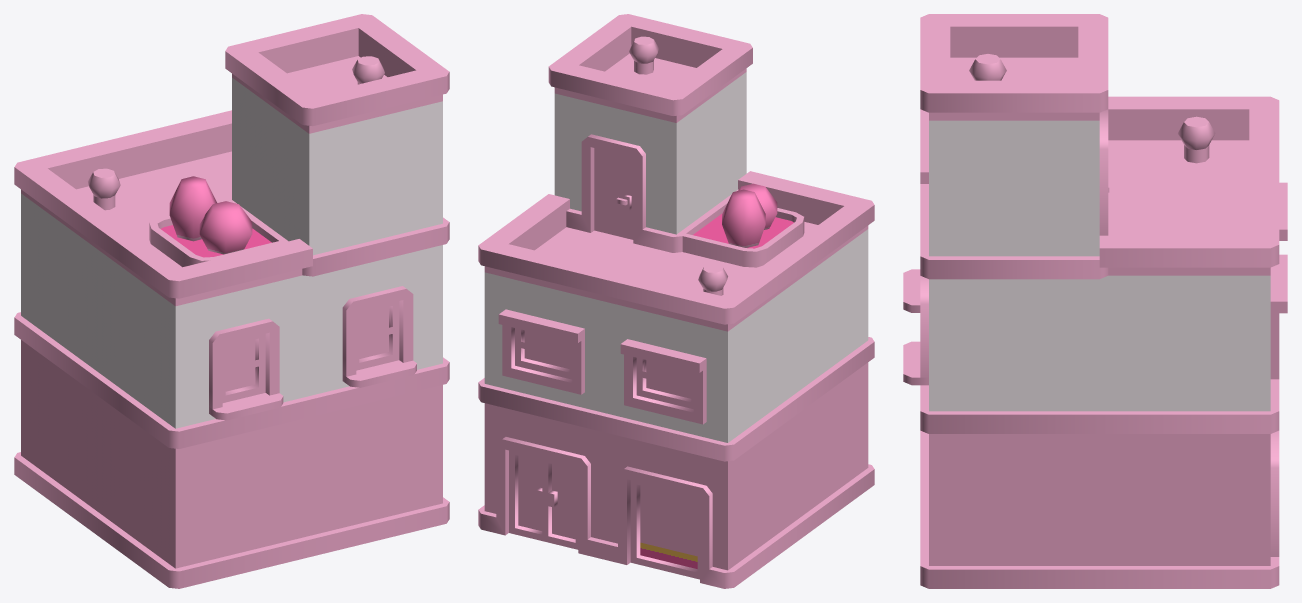
The model's file is building_d.obj.
3 views of the same model, side by side, from view 1: azimuth 30°, elevation 25°; view 2: azimuth 150°, elevation 25°; view 3: azimuth 270°, elevation 25° (orthographic). The views are drawn at different scales.
Parts seen in each view (by area): view 1: building-d; view 2: building-d; view 3: building-d.
Boxes of the visible parts, x1,y1,x2,y2 form: building-d: (14,14,449,588); building-d: (478,14,874,588); building-d: (903,14,1287,588).
Size of the model in its own units: 16.8 by 25.86 by 18.
1 material, 1 textured.
